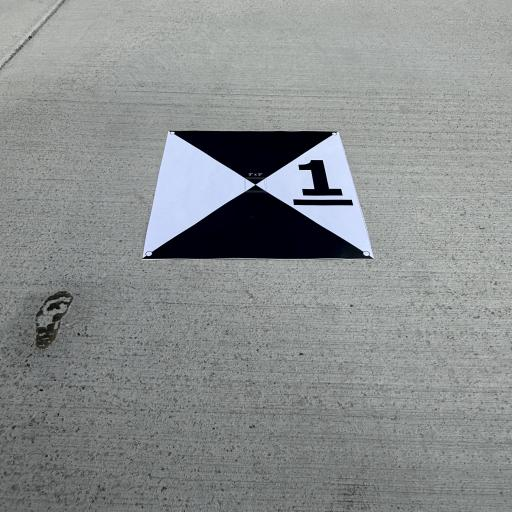target1: (140, 122, 390, 276)
